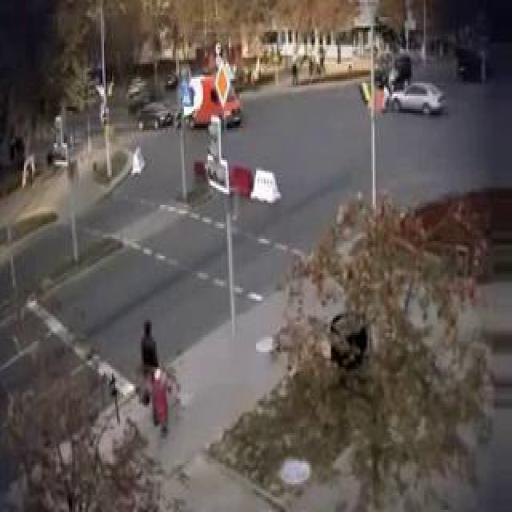Car: (386, 86, 443, 116), (142, 102, 182, 131), (370, 59, 409, 88)
